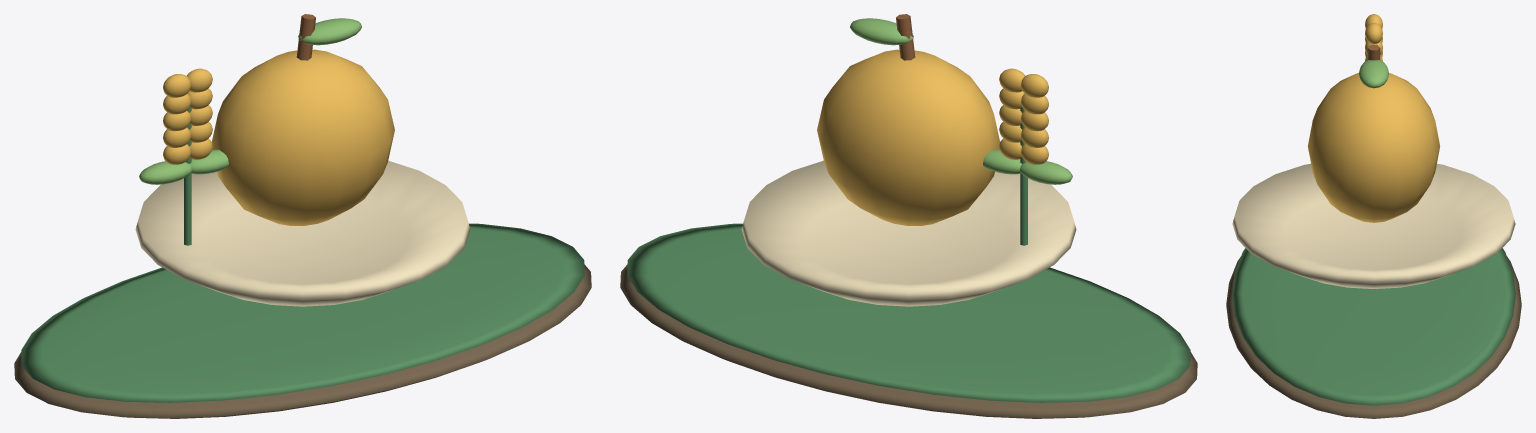
File: yellow.glb
3 views of the same model, side by side, from view 1: azimuth 30°, elevation 25°; view 2: azimuth 150°, elevation 25°; view 3: azimuth 270°, elevation 25° (orthographic). The views are drawn at different scales.
Parts seen in each view (by area): view 1: yellow_surface_01, yellow_surface_05, yellow_surface_02, yellow_surface_00, yellow_surface_04, yellow_surface_03; view 2: yellow_surface_01, yellow_surface_05, yellow_surface_02, yellow_surface_00, yellow_surface_04, yellow_surface_03; view 3: yellow_surface_01, yellow_surface_05, yellow_surface_02, yellow_surface_00, yellow_surface_04.
Part boxes in pixels (box(x1,y1,x2,y2)): yellow_surface_01: box(21, 107, 584, 402); yellow_surface_05: box(135, 160, 470, 306); yellow_surface_02: box(163, 49, 394, 225); yellow_surface_00: box(14, 265, 591, 418); yellow_surface_04: box(139, 18, 361, 184); yellow_surface_03: box(296, 14, 315, 60); yellow_surface_01: box(627, 107, 1190, 402); yellow_surface_05: box(741, 160, 1076, 306); yellow_surface_02: box(817, 49, 1048, 225); yellow_surface_00: box(620, 265, 1197, 418); yellow_surface_04: box(850, 18, 1072, 184); yellow_surface_03: box(896, 14, 915, 60); yellow_surface_01: box(1232, 248, 1515, 405); yellow_surface_05: box(1232, 163, 1515, 288); yellow_surface_02: box(1307, 14, 1440, 222); yellow_surface_00: box(1226, 256, 1521, 418); yellow_surface_04: box(1359, 60, 1388, 88).
Size of the model in its own units: 4.56 by 2.56 by 2.5.
